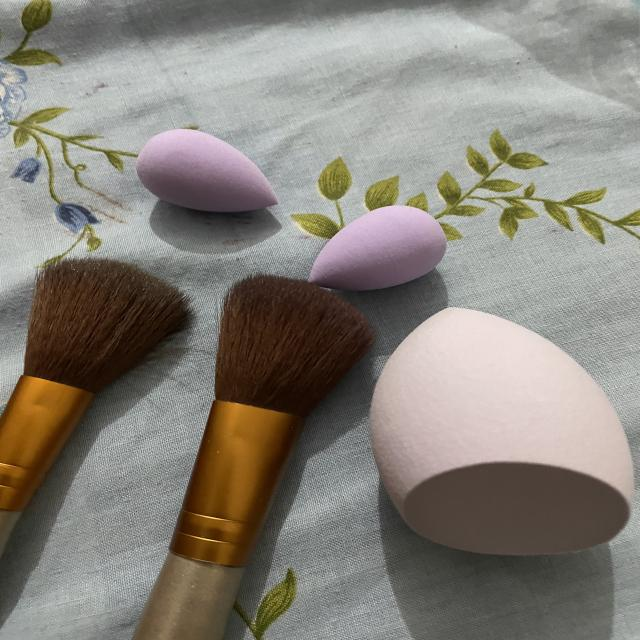beauty blender: (362, 297, 640, 567), (121, 118, 297, 228), (297, 196, 460, 301)
brush: (185, 267, 380, 640), (0, 243, 217, 414)
